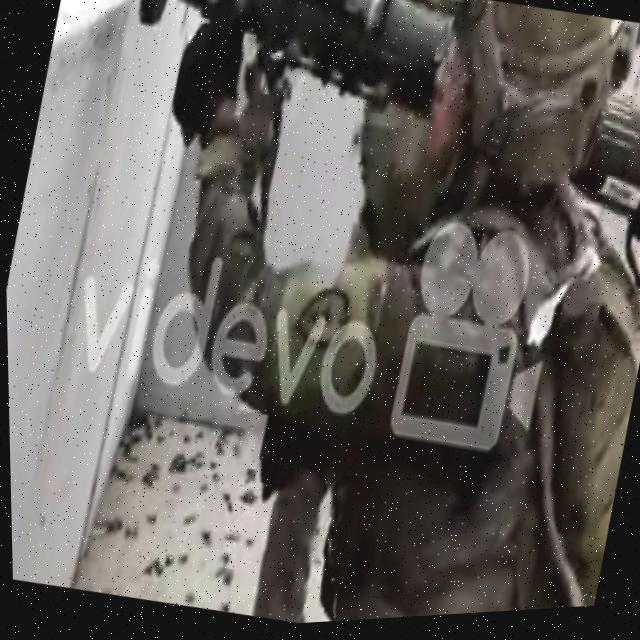rocket: (122, 0, 449, 115)
